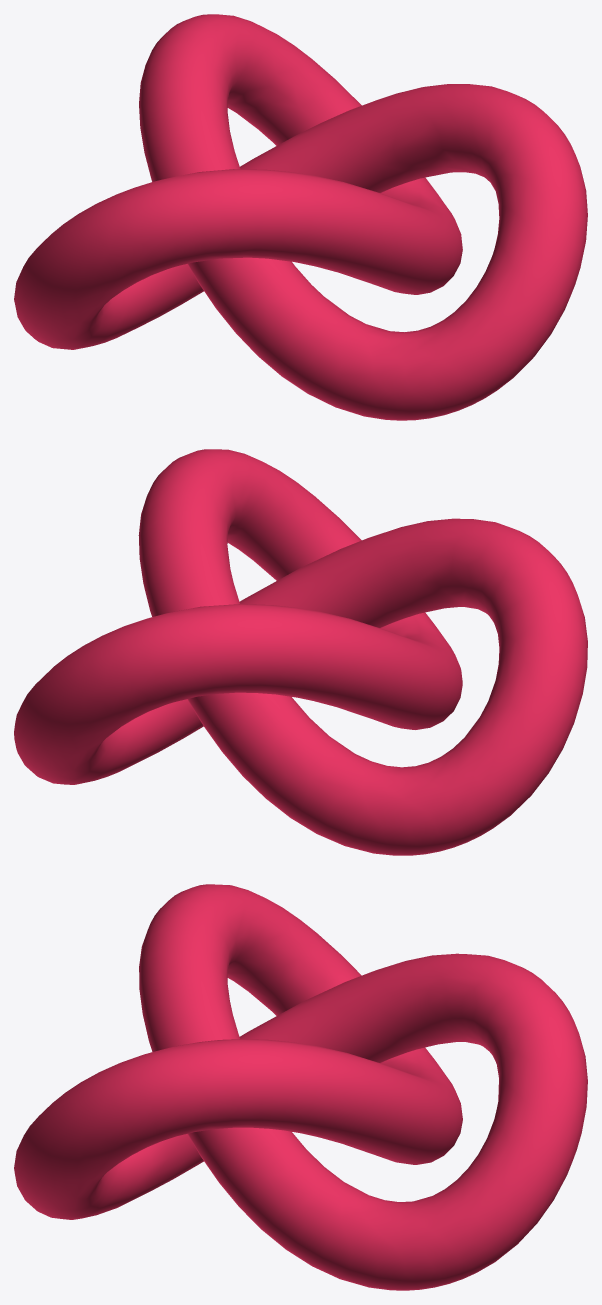
File: torus-knotDecimated2.glb
The picture shows the model from 3 angles, top to bottom: view 1: azimuth 30°, elevation 25°; view 2: azimuth 150°, elevation 25°; view 3: azimuth 270°, elevation 25°; orthographic projection.
Visible parts, largest first — view 1: TorusKnot.001; view 2: TorusKnot.001; view 3: TorusKnot.001.
Boxes of the visible parts, bbox=[...] form: TorusKnot.001: bbox=[14, 14, 587, 420]; TorusKnot.001: bbox=[14, 449, 587, 855]; TorusKnot.001: bbox=[14, 884, 587, 1290].
Bounding box in the file's own units: 6.06 × 3 × 6.47.
